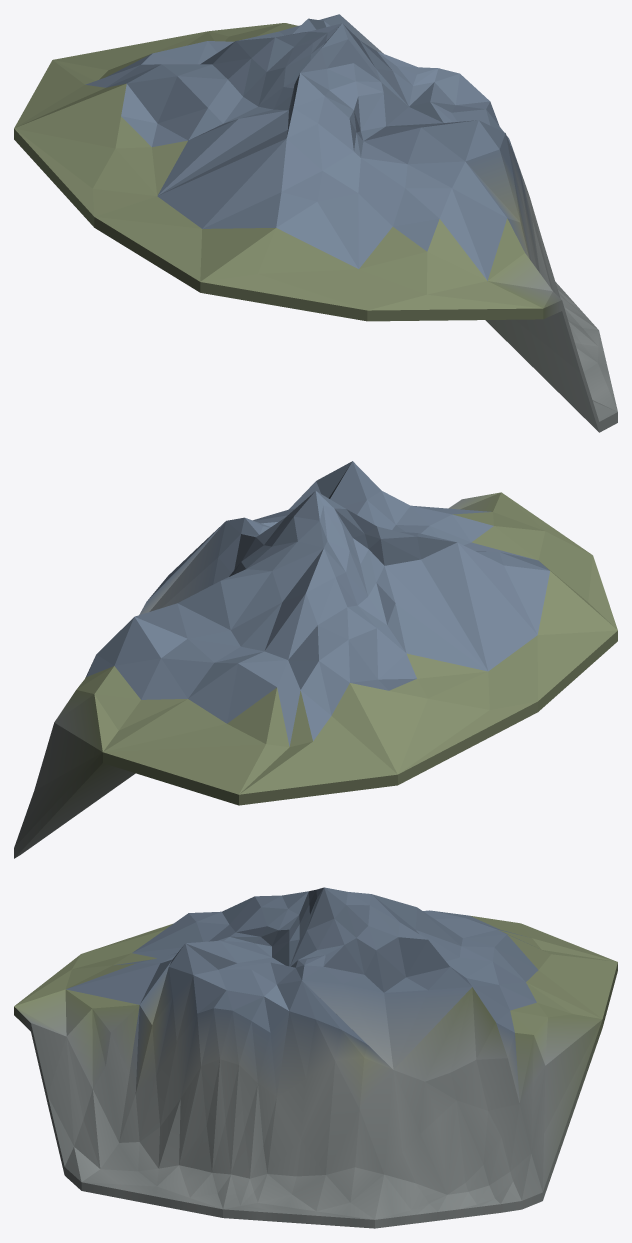
The model's file is massif_cirque_wall_lake48.glb.
The picture shows the model from 3 angles, top to bottom: view 1: azimuth 30°, elevation 25°; view 2: azimuth 150°, elevation 25°; view 3: azimuth 270°, elevation 25°; orthographic projection. The views are drawn at different scales.
Visible parts, largest first — view 1: massif_cirque_wall; view 2: massif_cirque_wall; view 3: massif_cirque_wall.
Part boxes in pixels (x1=…): massif_cirque_wall: x1=14, y1=14, x2=617, y2=432; massif_cirque_wall: x1=14, y1=461, x2=617, y2=858; massif_cirque_wall: x1=14, y1=887, x2=617, y2=1228.
Size of the model in its own units: 454 by 304 by 651.
